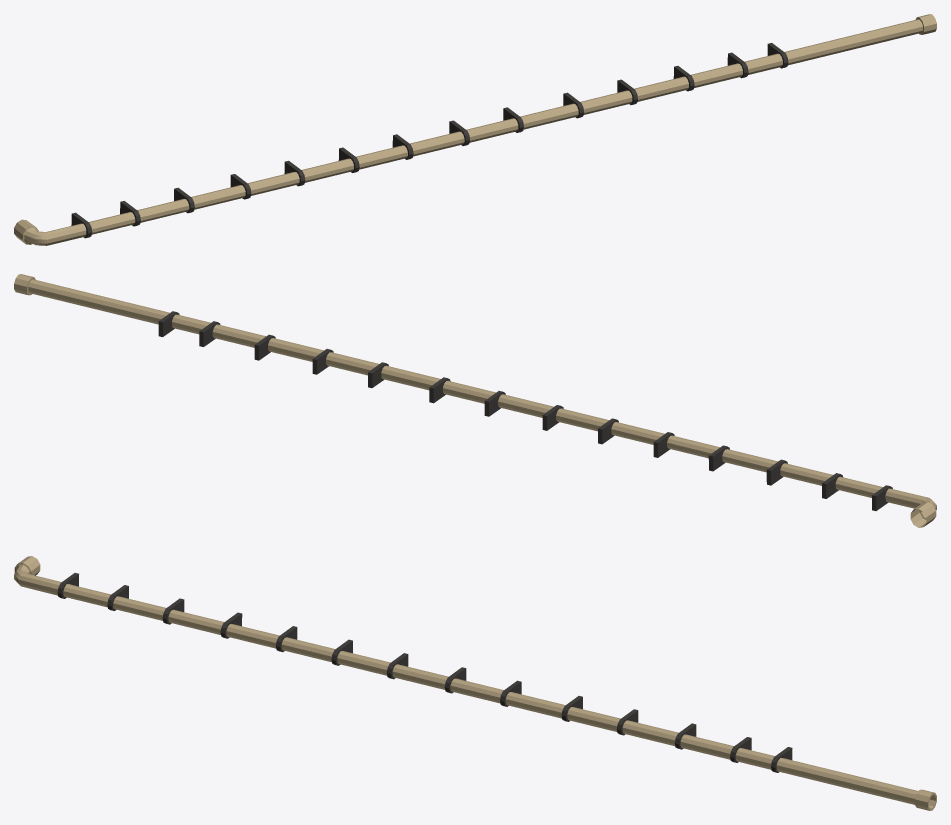
The model's file is pipes_small.fbx.
3 views of the same model, one above another, from view 1: azimuth 30°, elevation 25°; view 2: azimuth 150°, elevation 25°; view 3: azimuth 330°, elevation 25° (orthographic). The views are drawn at different scales.
Parts seen in each view (by area): view 1: polySurface144, polySurface140; view 2: polySurface144, polySurface140; view 3: polySurface144, polySurface140.
Boxes of the visible parts, x1=… form: polySurface144: x1=89, y1=14, x2=936, y2=234; polySurface140: x1=14, y1=219, x2=86, y2=245; polySurface144: x1=14, y1=274, x2=882, y2=497; polySurface140: x1=885, y1=488, x2=936, y2=527; polySurface144: x1=63, y1=584, x2=936, y2=810; polySurface140: x1=14, y1=556, x2=70, y2=595.
Bounding box in the file's own units: 5.46 × 0.1083 × 0.2202.
